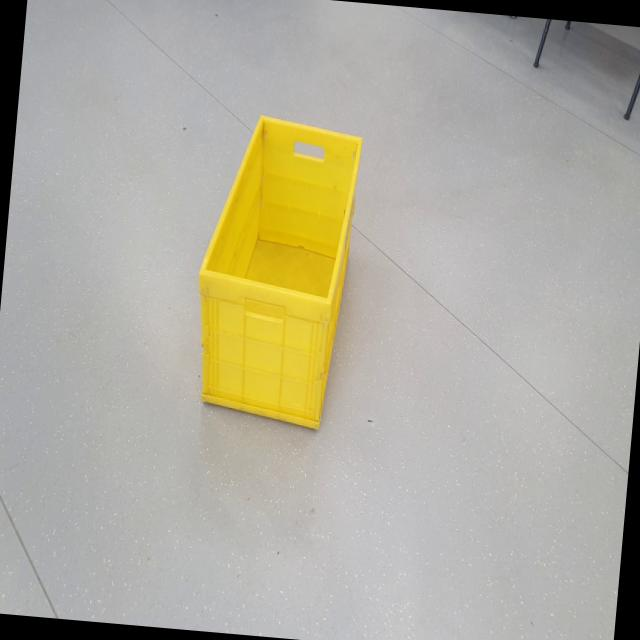box: (180, 104, 366, 448)
